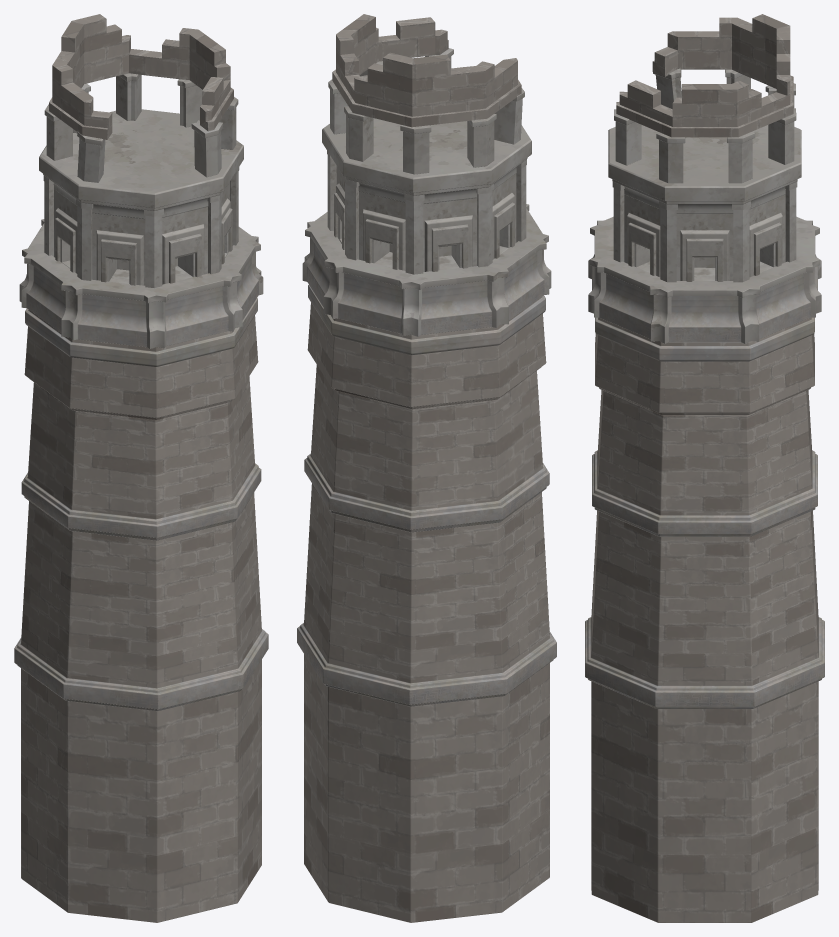
The model's file is SM_Tower_Small_Ruins_01.fbx.
3 views of the same model, side by side, from view 1: azimuth 30°, elevation 25°; view 2: azimuth 150°, elevation 25°; view 3: azimuth 270°, elevation 25° (orthographic). The views are drawn at different scales.
Visible parts, largest first — view 1: SM_Tower_Small_Ruins_01_LOD0; view 2: SM_Tower_Small_Ruins_01_LOD0; view 3: SM_Tower_Small_Ruins_01_LOD0.
Boxes of the visible parts, x1=… form: SM_Tower_Small_Ruins_01_LOD0: x1=14, y1=14, x2=268, y2=922; SM_Tower_Small_Ruins_01_LOD0: x1=297, y1=14, x2=556, y2=922; SM_Tower_Small_Ruins_01_LOD0: x1=585, y1=14, x2=824, y2=922.
Bounding box in the file's own units: 805 × 805 × 3093.
Materials: 3 (3 with a texture image).
